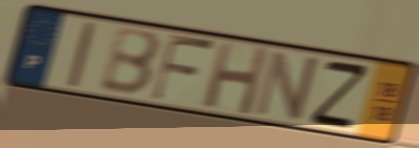B: (97, 26, 164, 99)
F: (148, 31, 219, 105)
H: (200, 39, 272, 119)
I: (64, 19, 99, 90)
N: (251, 47, 323, 123)
Z: (308, 58, 371, 130)
